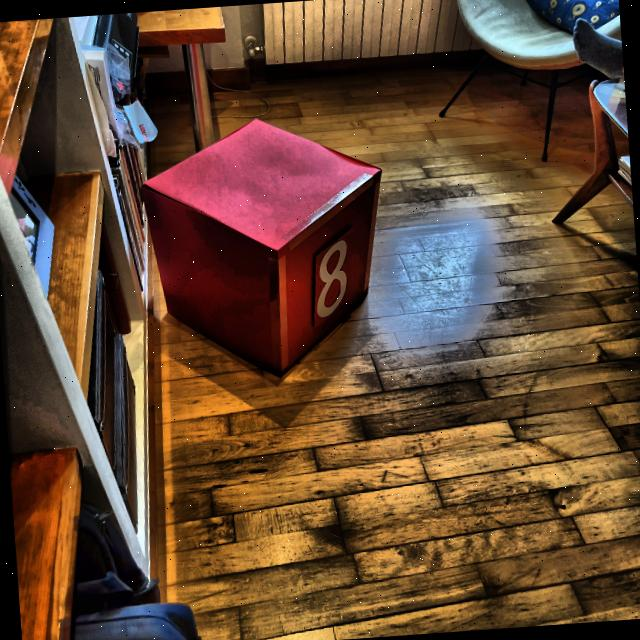eight: (310, 238, 356, 318)
red box: (140, 111, 395, 383)
